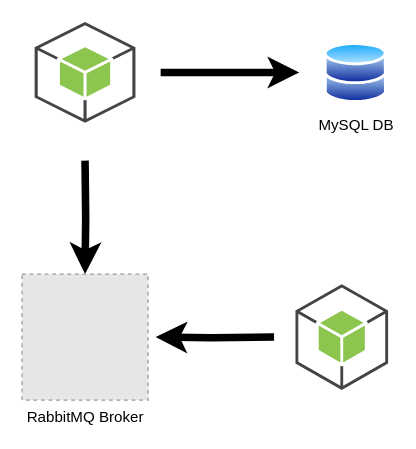
This 416x449 diagram has some shape labels left out. Grey dashed boxes stand in for pictures. Here are the shapes that lost their labels. From the top down, the box of each, then its label:
(33, 21, 135, 123): NodeJS API
(294, 283, 388, 390): Consumer
